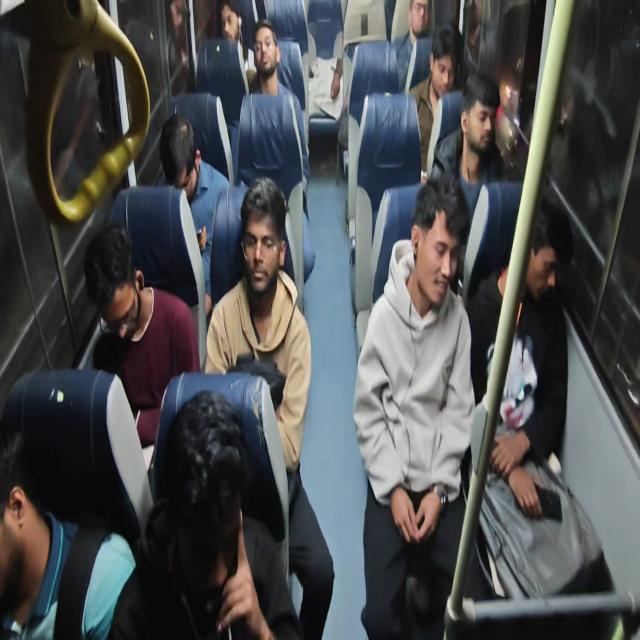person: (133, 355, 276, 631), (387, 186, 482, 387), (411, 30, 509, 184), (512, 211, 574, 389), (80, 225, 155, 364), (221, 192, 287, 336), (0, 402, 44, 595), (452, 87, 514, 214), (306, 29, 365, 134), (162, 81, 195, 222), (401, 4, 450, 82), (211, 3, 243, 78), (247, 17, 274, 98)
